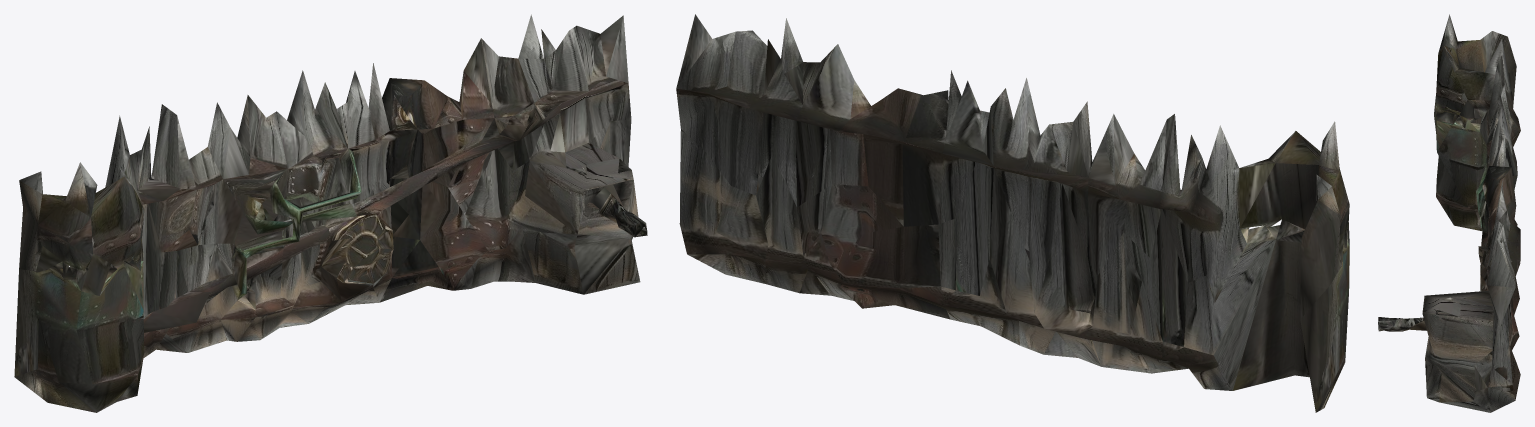
The model's file is palisade_b.glb.
3 views of the same model, side by side, from view 1: azimuth 30°, elevation 25°; view 2: azimuth 150°, elevation 25°; view 3: azimuth 270°, elevation 25° (orthographic). The views are drawn at different scales.
Parts seen in each view (by area): view 1: mesh_node; view 2: mesh_node; view 3: mesh_node.
Boxes of the visible parts, x1,y1,x2,y2 form: mesh_node: [14, 14, 647, 412]; mesh_node: [676, 14, 1349, 412]; mesh_node: [1378, 14, 1520, 412].
Bounding box in the file's own units: 1.92 × 0.773 × 0.5113.
1 material, 1 textured.
